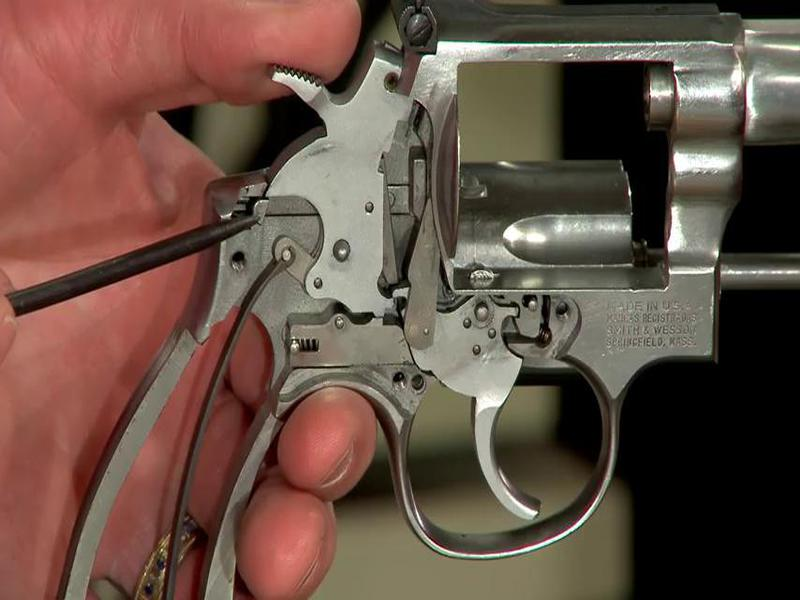Revolver: (80, 9, 800, 559)
